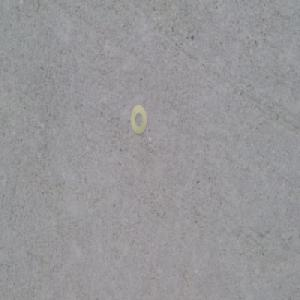Washer: (130, 104, 147, 137)
